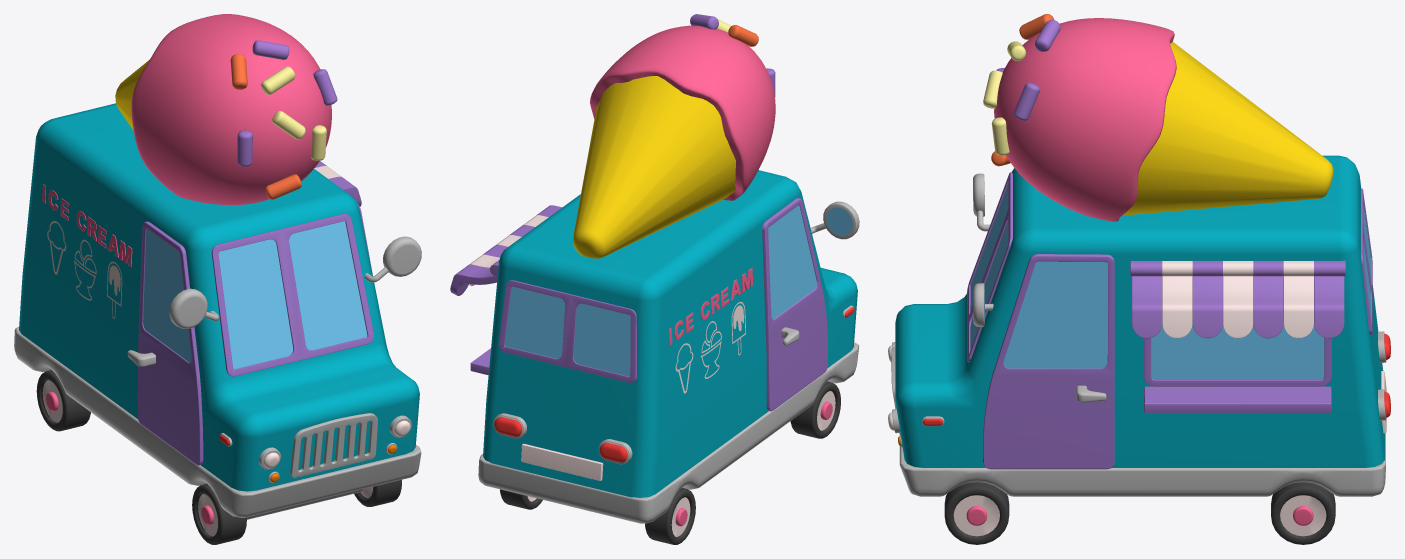
File: City_19_Ice_Cream_Car_1.glb
3 renders of one model, left to right at view 1: azimuth 30°, elevation 25°; view 2: azimuth 150°, elevation 25°; view 3: azimuth 270°, elevation 25°, orthographic. The views are drawn at different scales.
Parts seen in each view (by area): view 1: City_19_Ice_Cream_Car_1; view 2: City_19_Ice_Cream_Car_1; view 3: City_19_Ice_Cream_Car_1.
Part boxes in pixels (x1,y1,x2,y2): City_19_Ice_Cream_Car_1: (14, 14, 421, 544); City_19_Ice_Cream_Car_1: (450, 14, 859, 544); City_19_Ice_Cream_Car_1: (888, 14, 1390, 544).
Size of the model in its own units: 2.67 by 4.36 by 4.16.
1 material, 1 textured.
